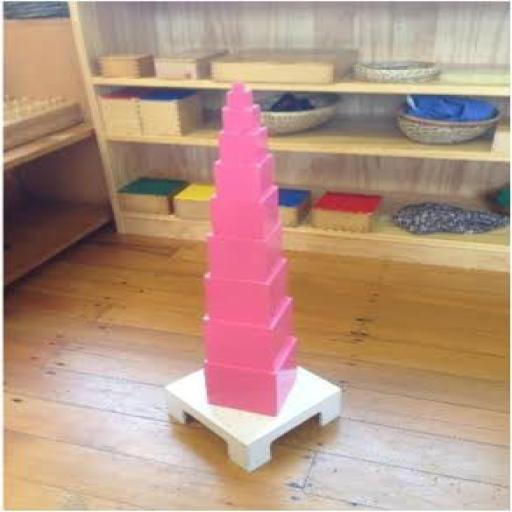knobbedcylinders: (2, 91, 100, 158)
pink tower: (191, 77, 304, 420)
